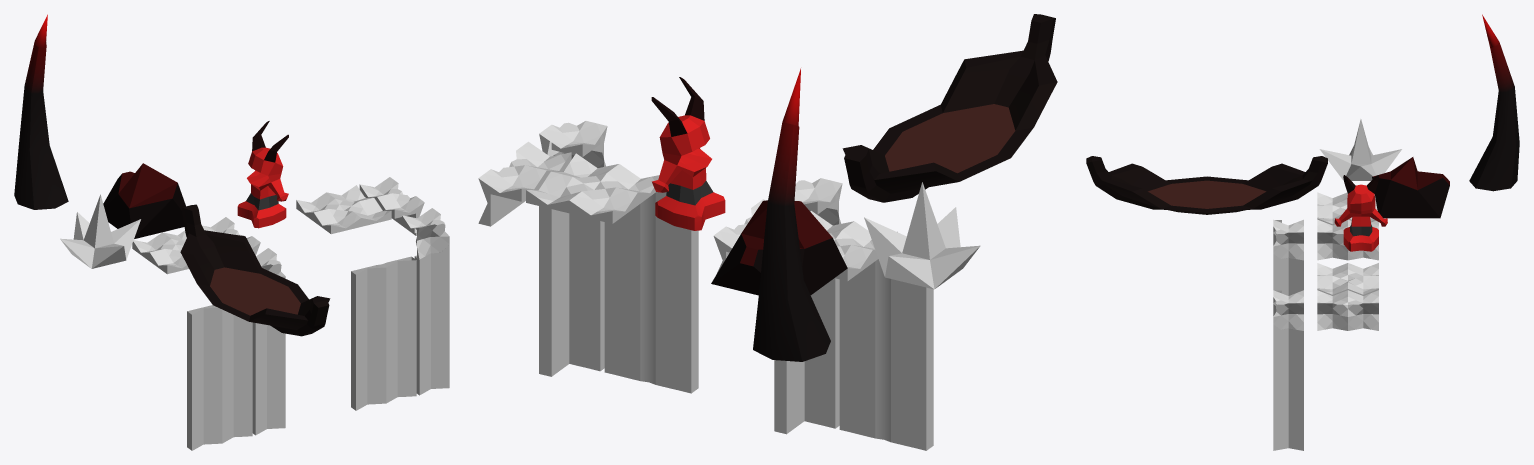
Rendered from HellModules.fbx.
3 renders of one model, left to right at view 1: azimuth 30°, elevation 25°; view 2: azimuth 150°, elevation 25°; view 3: azimuth 270°, elevation 25°, orthographic. The views are drawn at different scales.
Parts seen in each view (by area): view 1: CornerwallHell003, Box006, CornerwallHell001, Box011, CornerwallHell002, Box002, CornerwallHell, Box007, Box003, Box008, Box001, Box009 (+3 smaller); view 2: Box006, CornerwallHell003, CornerwallHell001, CornerwallHell002, Box011, Box007, CornerwallHell, Box003, Box002, Box008, Box009, Box010 (+3 smaller); view 3: Box006, Box011, CornerwallHell002, Box002, Box007, Box009, Box003, Box008, Box004, CornerwallHell, Box010, Box005 (+1 smaller).
Part boxes in pixels (bbox=[...]): CornerwallHell003: bbox=[351, 256, 416, 410]; Box006: bbox=[180, 204, 330, 336]; CornerwallHell001: bbox=[187, 305, 252, 450]; Box011: bbox=[14, 14, 68, 209]; CornerwallHell002: bbox=[414, 245, 449, 395]; Box002: bbox=[103, 163, 185, 238]; CornerwallHell: bbox=[252, 322, 285, 435]; Box007: bbox=[237, 121, 288, 228]; Box003: bbox=[60, 194, 140, 268]; Box008: bbox=[296, 185, 391, 234]; Box001: bbox=[132, 230, 188, 274]; Box009: bbox=[359, 177, 424, 235]; Box006: bbox=[842, 14, 1057, 202]; CornerwallHell003: bbox=[604, 192, 698, 393]; CornerwallHell001: bbox=[839, 259, 933, 450]; CornerwallHell002: bbox=[539, 153, 604, 376]; Box011: bbox=[753, 68, 830, 361]; Box007: bbox=[651, 77, 725, 230]; CornerwallHell: bbox=[774, 278, 839, 434]; Box003: bbox=[864, 182, 980, 289]; Box002: bbox=[711, 200, 847, 295]; Box008: bbox=[526, 153, 659, 223]; Box009: bbox=[478, 141, 571, 226]; Box010: bbox=[539, 121, 607, 167]; Box006: bbox=[1086, 156, 1327, 214]; Box011: bbox=[1469, 14, 1519, 191]; CornerwallHell002: bbox=[1273, 324, 1303, 450]; Box002: bbox=[1372, 157, 1449, 218]; Box007: bbox=[1334, 175, 1387, 251]; Box009: bbox=[1317, 290, 1378, 330]; Box003: bbox=[1319, 119, 1401, 180]; Box008: bbox=[1317, 263, 1378, 295]; Box004: bbox=[1317, 219, 1378, 260]; CornerwallHell: bbox=[1273, 254, 1303, 295]; Box010: bbox=[1273, 290, 1303, 330]; Box005: bbox=[1273, 219, 1303, 260].
Bounding box in the file's own units: 394 × 395 × 492.
